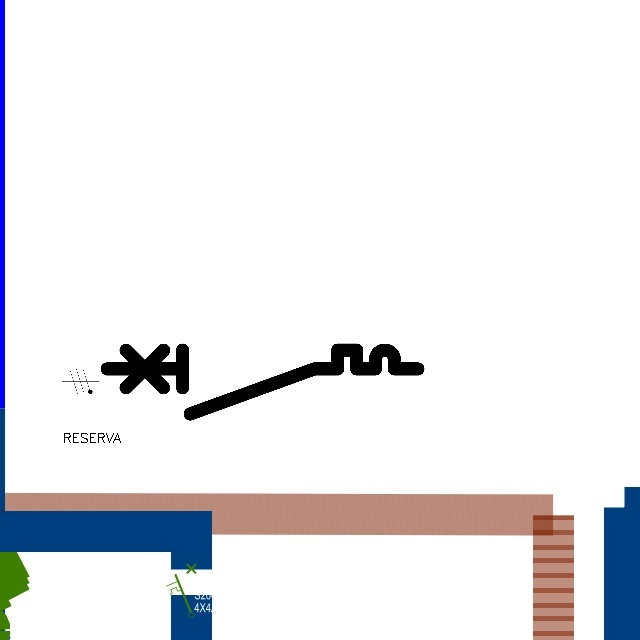interruptor_termomagnetico: (99, 342, 426, 422)
